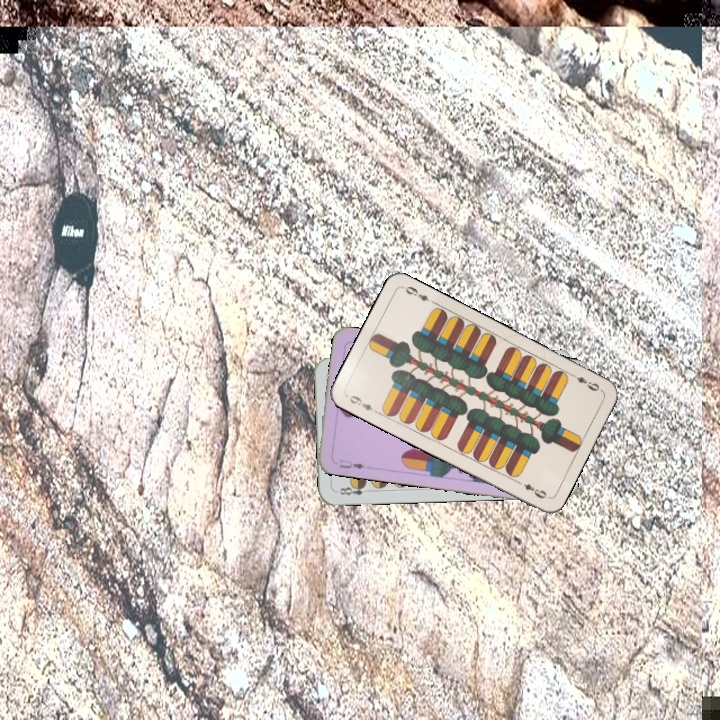E8: (333, 480, 368, 498)
E9: (343, 391, 381, 416), (567, 369, 604, 394)
EU: (336, 455, 367, 472)
